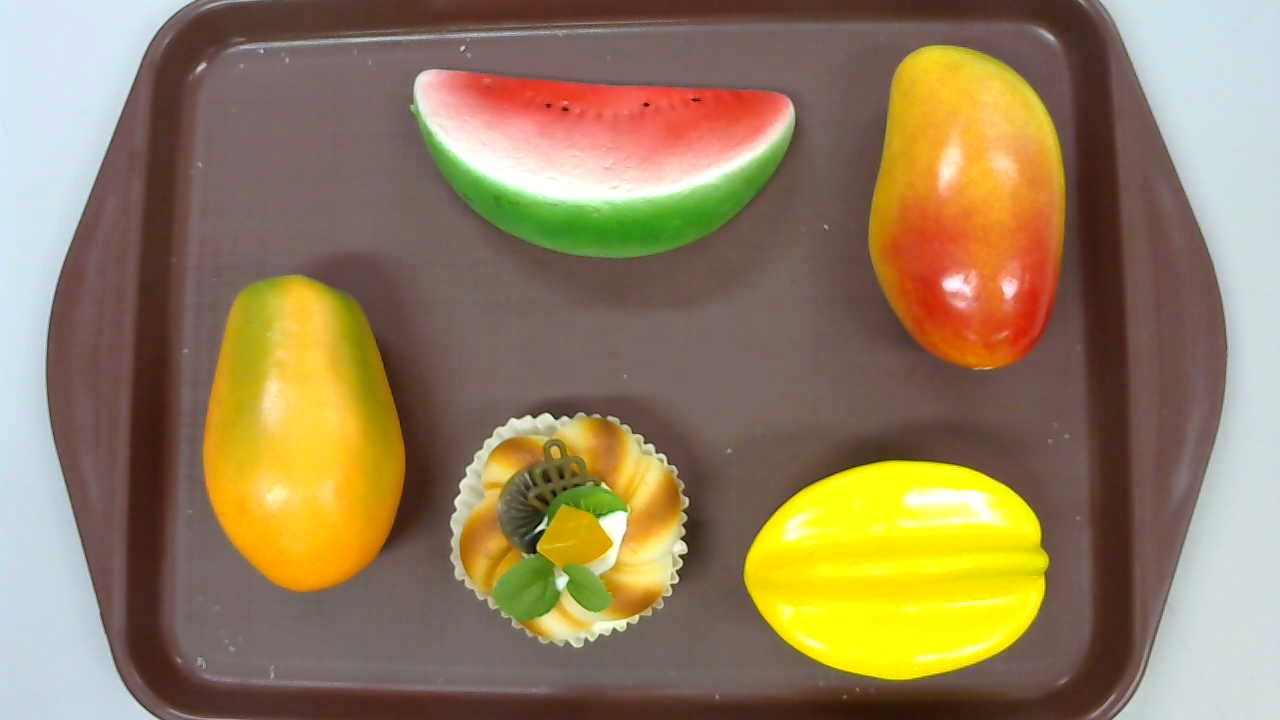fruit tart: (449, 411, 691, 647)
papya: (203, 272, 404, 592)
red mango: (866, 45, 1065, 370)
star fruit: (743, 459, 1049, 680)
water melon: (409, 67, 797, 260)
